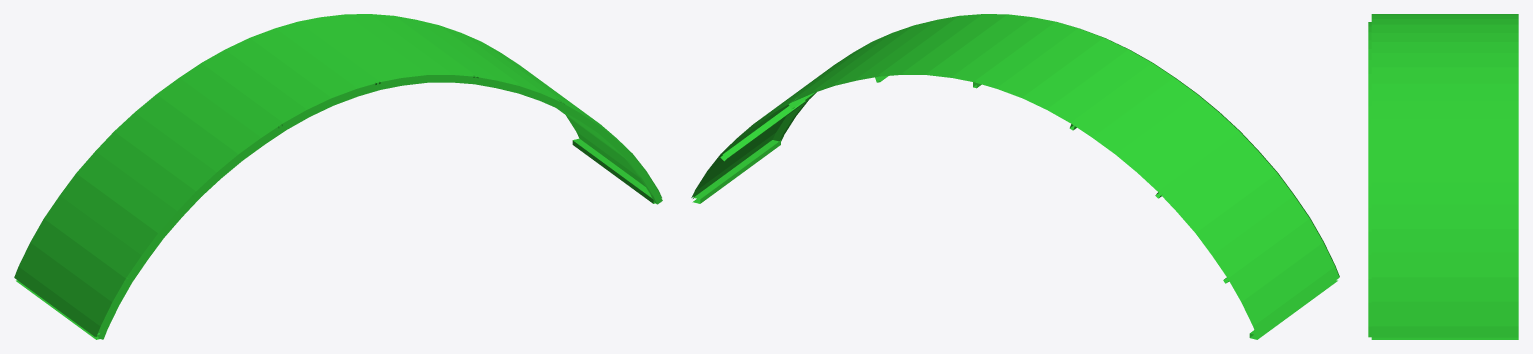
File: arrivalRoof.fbx
3 views of the same model, side by side, from view 1: azimuth 30°, elevation 25°; view 2: azimuth 150°, elevation 25°; view 3: azimuth 270°, elevation 25° (orthographic). The views are drawn at different scales.
Visible parts, largest first — view 1: arrivalRoof; view 2: arrivalRoof; view 3: arrivalRoof.
Part boxes in pixels (x1,y1,x2,y2): arrivalRoof: [14, 14, 662, 339]; arrivalRoof: [691, 14, 1339, 339]; arrivalRoof: [1368, 14, 1518, 339].
Size of the model in its own units: 10.93 by 3.5 by 2.76.
